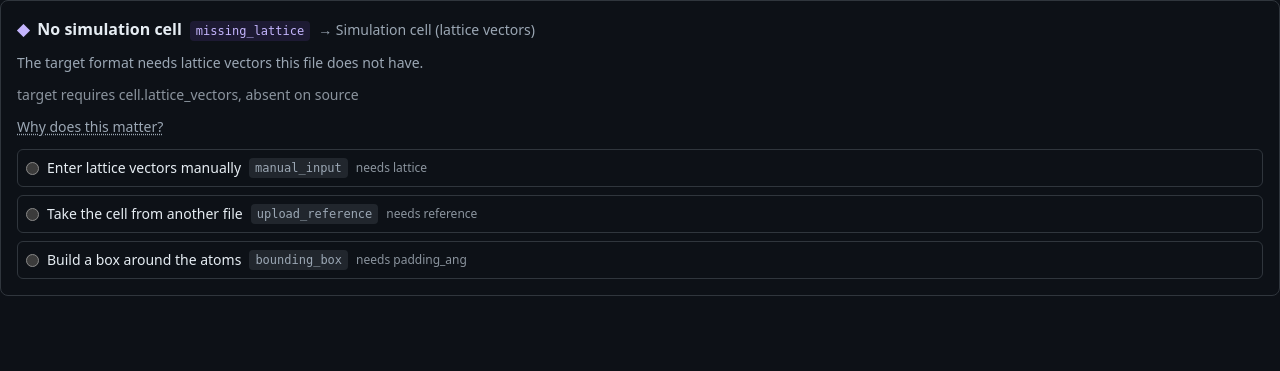
Scenario: DecisionCard › reveals a choice's parameter widget only once it is selected
Step 1. Click the radio button labelled "Build a box around the atoms bounding_box" → (32, 260), box [26, 254, 39, 266]
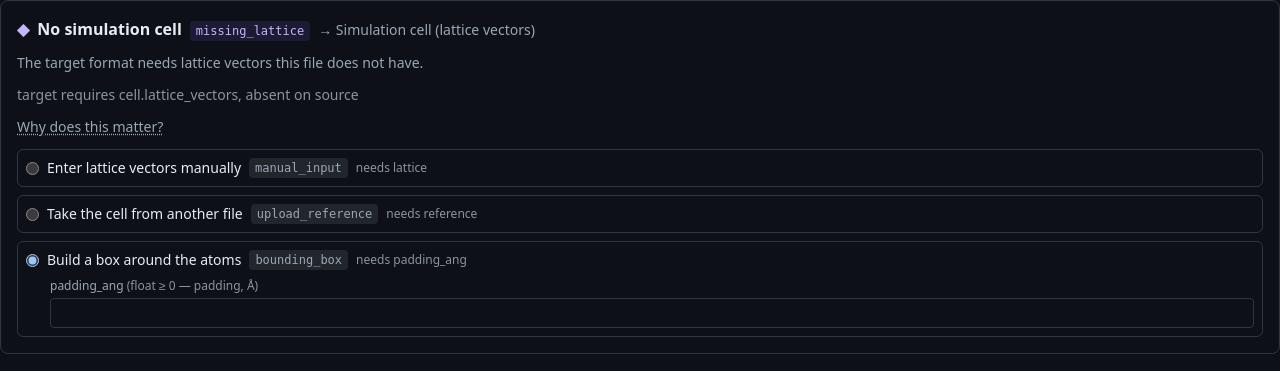
Check: the number field labelled "padding_ang (float ≥ 0 — padding, Å)" is shown, box [50, 298, 1254, 328]
